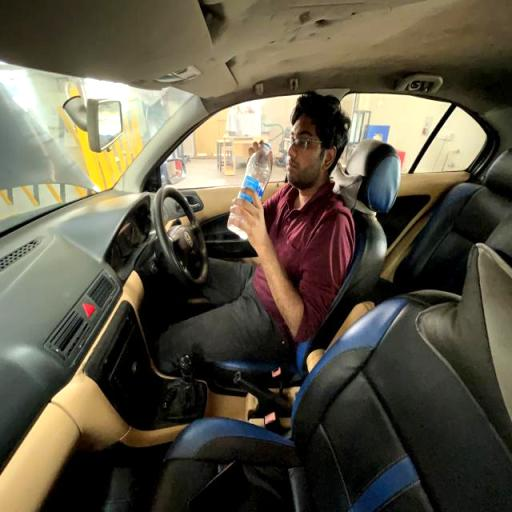Drinking: (222, 93, 357, 349)
